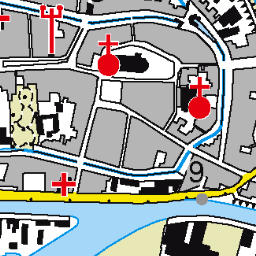church: (93, 29, 124, 78), (186, 76, 213, 120)
